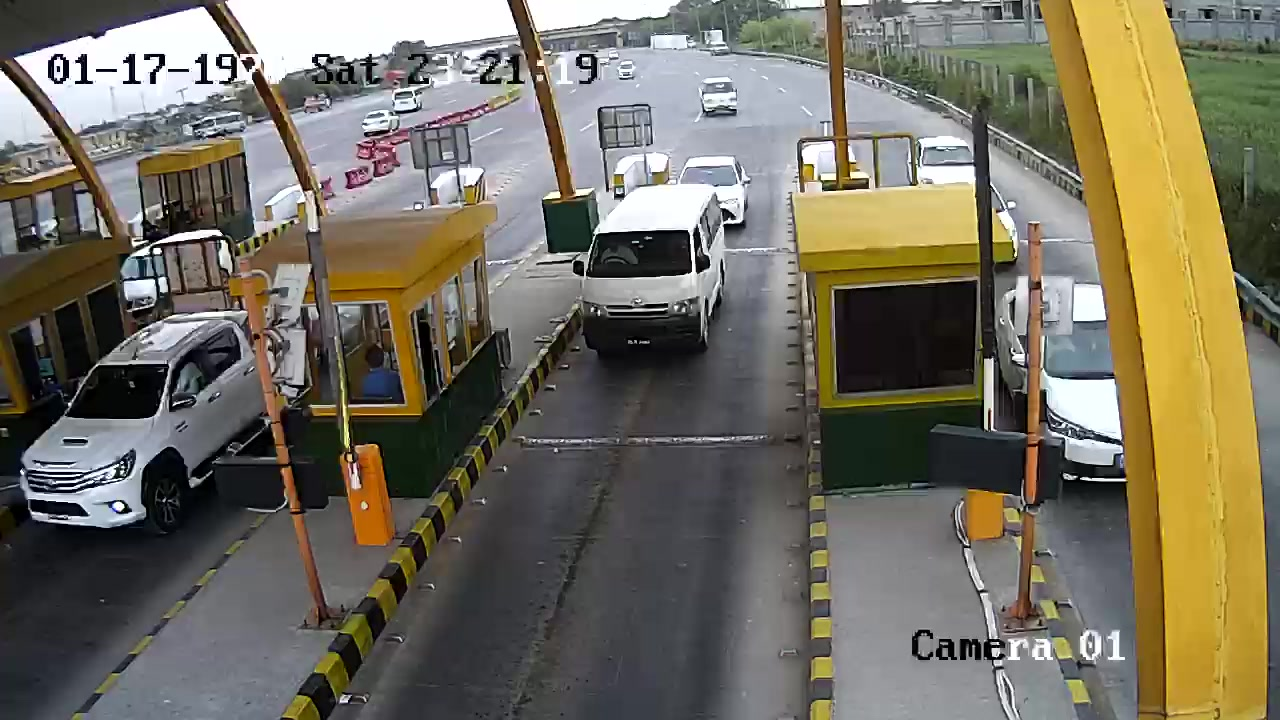F3: (570, 184, 734, 377)
